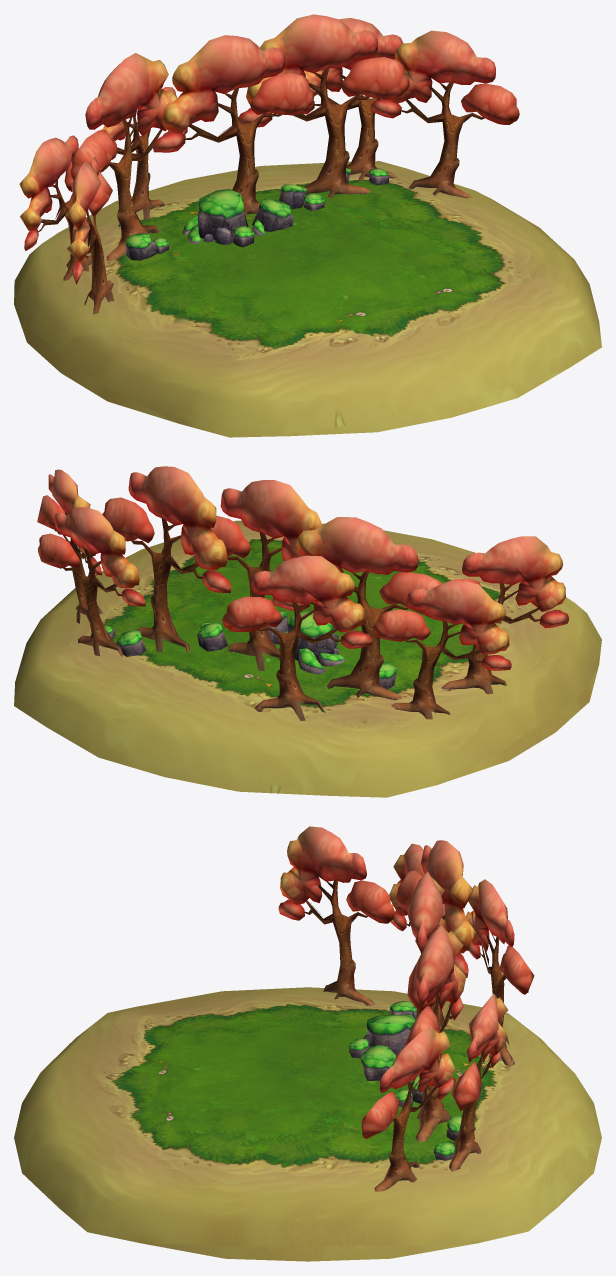
The picture shows the model from 3 angles, top to bottom: view 1: azimuth 30°, elevation 25°; view 2: azimuth 150°, elevation 25°; view 3: azimuth 270°, elevation 25°; orthographic projection. The views are drawn at different scales.
Parts seen in each view (by area): view 1: plane01, tree1 (×8), stone1; view 2: plane01, tree1 (×8), stone1; view 3: plane01, tree1 (×8), stone1.
Boxes of the visible parts, bbox=[...] form: plane01: bbox=[14, 161, 601, 437]; tree1 (×8): bbox=[19, 14, 519, 314]; stone1: bbox=[125, 168, 389, 260]; plane01: bbox=[14, 520, 601, 797]; tree1 (×8): bbox=[37, 466, 568, 720]; stone1: bbox=[104, 610, 396, 689]; plane01: bbox=[14, 987, 601, 1261]; tree1 (×8): bbox=[278, 826, 534, 1191]; stone1: bbox=[349, 1001, 475, 1160].
Size of the model in its own units: 17.18 by 8.03 by 17.21.
3 materials, 3 textured.
